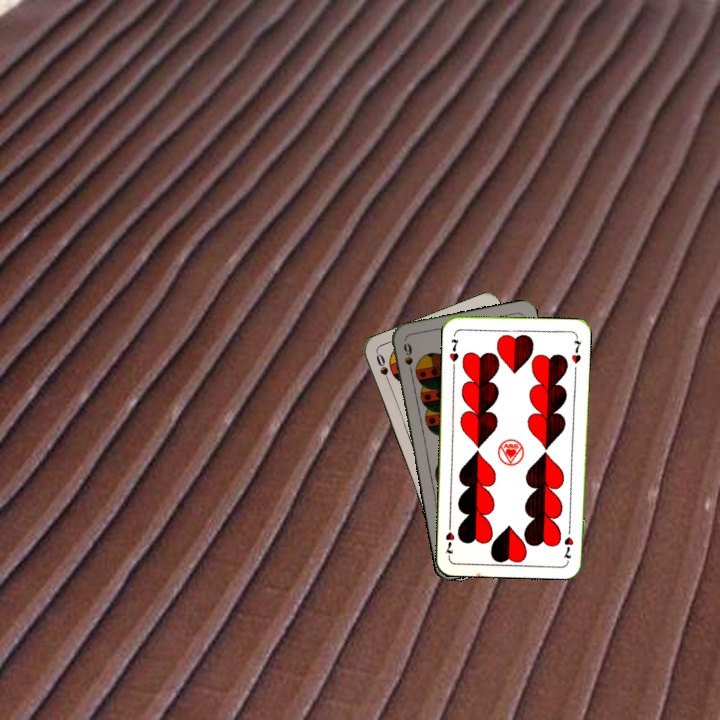H7: (560, 522, 576, 563), (445, 335, 461, 364)
S9: (399, 338, 416, 378)
SO: (372, 350, 393, 389)
